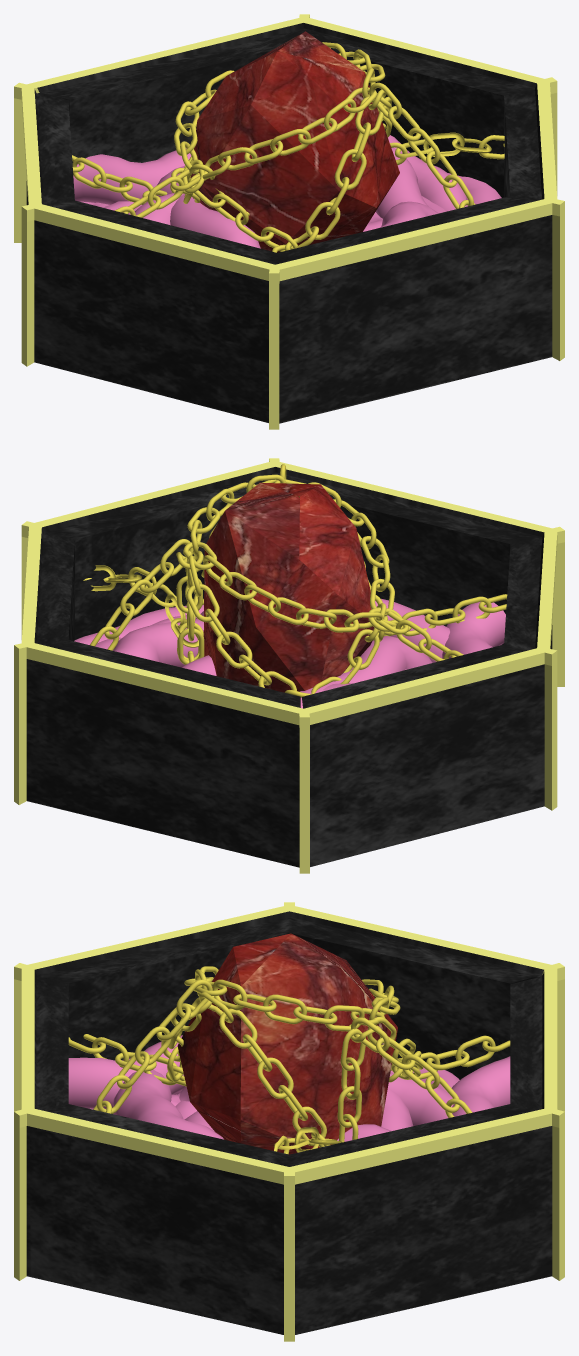
The model's file is Trapetosozolone2.fbx.
3 renders of one model, top to bottom at view 1: azimuth 30°, elevation 25°; view 2: azimuth 150°, elevation 25°; view 3: azimuth 270°, elevation 25°, orthographic. The views are drawn at different scales.
Parts seen in each view (by area): view 1: box, chain.006, Cylinder.002, chain.003, Cylinder, chain.001, chain.002, chain.004; view 2: box, chain.006, Cylinder.002, Cylinder, chain.005, chain.001, chain, chain.004; view 3: box, chain.006, Cylinder, Cylinder.002, chain.003, chain.005, chain.002, chain, chain.001.
Boxes of the visible parts, box(x1,y1,x2,y2) form: box: box(14, 14, 564, 429); chain.006: box(170, 42, 392, 251); Cylinder.002: box(73, 135, 501, 248); chain.003: box(369, 82, 475, 208); Cylinder: box(103, 192, 445, 231); chain.001: box(390, 132, 504, 165); chain.002: box(72, 155, 167, 204); chain.004: box(115, 169, 207, 217); box: box(14, 458, 564, 873); chain.006: box(176, 474, 403, 697); Cylinder.002: box(74, 604, 432, 708); Cylinder: box(196, 598, 505, 690); chain.005: box(90, 539, 193, 650); chain.001: box(83, 565, 198, 647); chain: box(389, 594, 507, 636); chain.004: box(373, 607, 463, 661); box: box(14, 902, 564, 1341); chain.006: box(161, 966, 423, 1147); Cylinder: box(68, 1035, 459, 1139); Cylinder.002: box(171, 1056, 510, 1141); chain.003: box(93, 979, 212, 1113); chain.005: box(351, 1017, 472, 1117); chain.002: box(390, 1035, 510, 1079); chain: box(68, 1034, 186, 1086); chain.001: box(274, 1127, 341, 1154).
Bounding box in the file's own units: 787 × 356 × 669.
